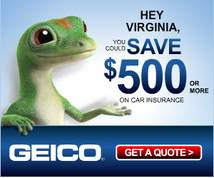geico: (7, 142, 103, 162)
